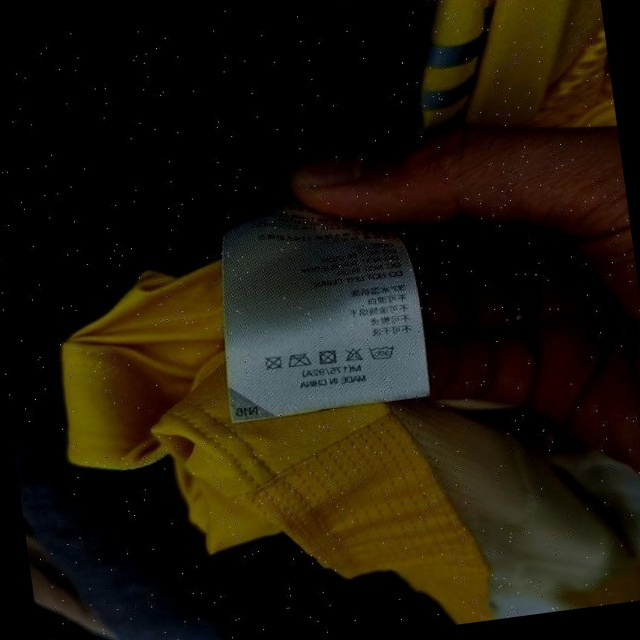30C: (367, 341, 397, 364)
DN_bleach: (341, 346, 364, 363)
DN_dry_clean: (261, 353, 284, 373)
DN_iron: (286, 349, 314, 371)
DN_tumble_dry: (316, 348, 338, 368)
